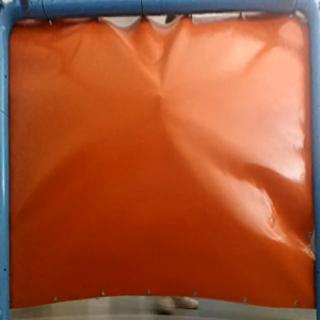Hit-hRxx: (152, 89, 170, 105)
